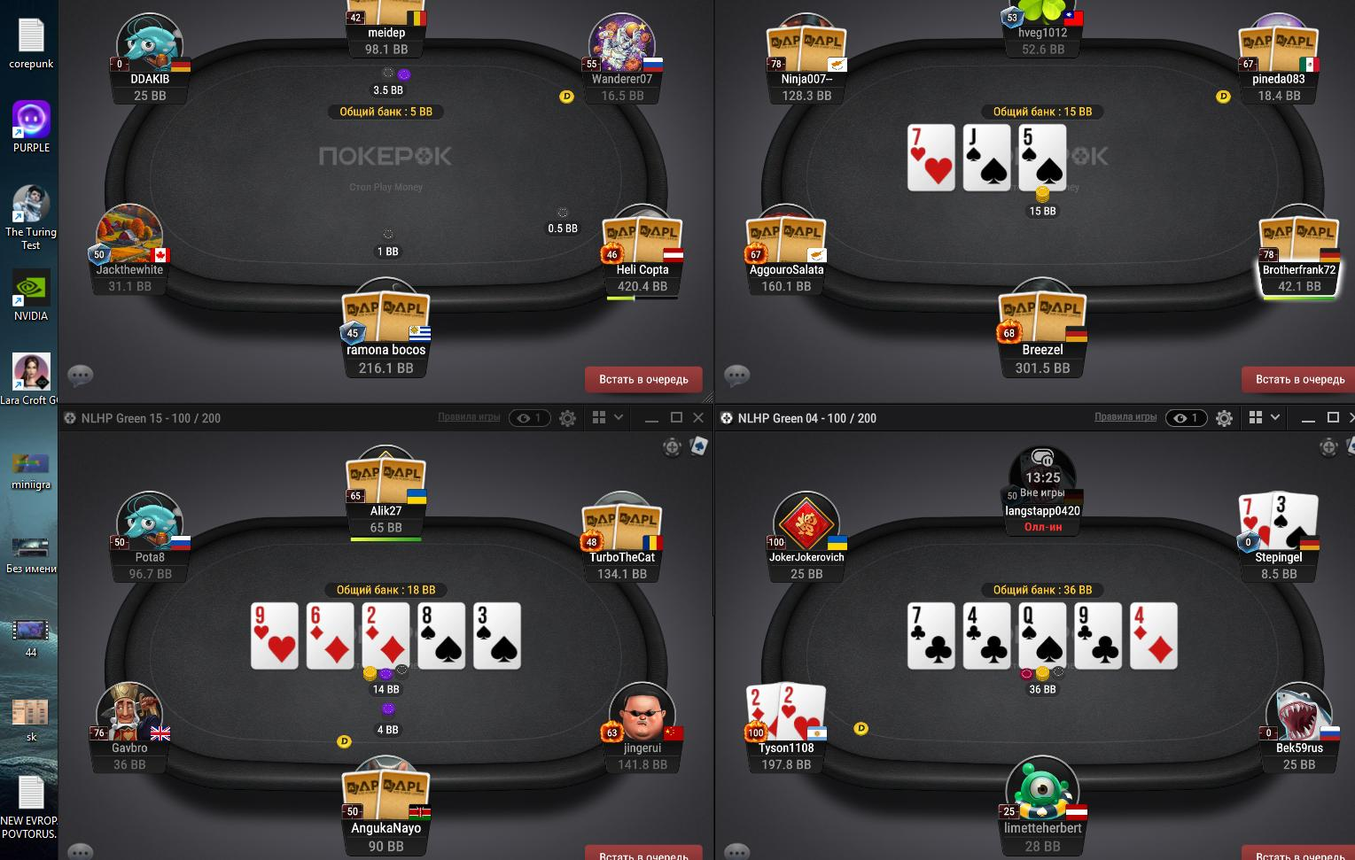2d: (362, 603, 409, 668), (746, 683, 781, 741)
2h: (779, 680, 828, 745)
3s: (1271, 489, 1320, 552), (474, 604, 521, 668)
4c: (964, 604, 1009, 668)
4d: (1129, 603, 1177, 670)
5s: (1020, 126, 1064, 191)
6d: (308, 604, 355, 669)
7c: (908, 603, 955, 669)
7h: (909, 126, 954, 189), (1237, 493, 1271, 552)
8s: (418, 604, 465, 668)
9c: (1075, 603, 1123, 669)
9h: (250, 602, 302, 670)
Js: (962, 124, 1009, 192)
Qs: (1019, 602, 1067, 668)
